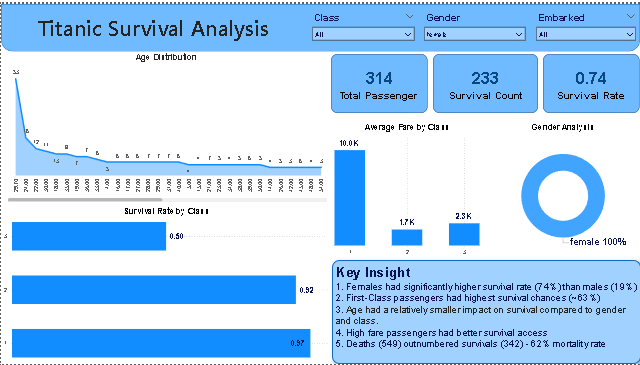

This screenshot's page, from the dashboard's own definition file:
{"tool":"powerbi","page":{"name":"Dashboard","canvas":[1280,720],"ordinal":0},"visuals":[{"type":"shape","box":[0,0,1278.3,95],"z":0},{"type":"card","fields":{"Values":["CountNonNull(Cleaned.PassengerId)"]},"box":[660,100,193.3,118.3],"z":0,"group":"g1"},{"type":"card","fields":{"Values":["Sum(Cleaned.Survived)"]},"box":[864.2,100,210,118.3],"z":1000,"group":"g1"},{"type":"donutChart","title":"Gender Analysis","fields":{"Category":["Cleaned.Sex"],"Y":["Sum(Cleaned.Survived)"]},"box":[970,231.7,308.3,280],"z":1000},{"type":"card","fields":{"Values":["Cleaned.Survival Rate"]},"box":[1083.3,100,193.3,118.3],"z":2000,"group":"g1"},{"type":"barChart","title":"Survival Rate by Class","fields":{"Category":["Cleaned.Pclass"],"Y":["Avg(Cleaned.Survived)"]},"box":[0,400,661.7,320],"z":2000},{"type":"areaChart","title":"Age Distribution","fields":{"Category":["Cleaned.Age"],"Y":["Sum(Cleaned.Survived)"]},"box":[0,95,661.7,305],"z":3000},{"type":"clusteredColumnChart","title":"Average Fare by Class","fields":{"Category":["Cleaned.Pclass"],"Y":["Sum(Cleaned.Fare)"]},"box":[651.7,231.7,320,280],"z":4000},{"type":"slicer","fields":{"Values":["Cleaned.Sex"]},"box":[836.7,0,223.3,95],"z":5000},{"type":"slicer","fields":{"Values":["Cleaned.Pclass"]},"box":[611.7,0,225,95],"z":6000},{"type":"slicer","fields":{"Values":["Cleaned.Embarked"]},"box":[1060,0,220,95],"z":7000},{"type":"textbox","box":[0,0,611.7,95],"z":8000},{"type":"textbox","box":[661.7,512.4,618.4,207.6],"z":9000},{"type":"group","id":"g1","title":"Group 1","box":[660,100,616.7,118.3],"z":10000}]}

Visuals, with their boxes in screenshot pixels (x1, y1, x2, y2), scaled from the page's 1280x720 canvas onto the 640x365 screenshot:
shape: (x1=0, y1=0, x2=639, y2=48)
card - CountNonNull(Cleaned.PassengerId): (x1=330, y1=51, x2=427, y2=111)
card - Sum(Cleaned.Survived): (x1=432, y1=51, x2=537, y2=111)
"Gender Analysis" donutChart: (x1=485, y1=117, x2=639, y2=259)
card - Cleaned.Survival Rate: (x1=542, y1=51, x2=638, y2=111)
"Survival Rate by Class" barChart: (x1=0, y1=203, x2=331, y2=364)
"Age Distribution" areaChart: (x1=0, y1=48, x2=331, y2=203)
"Average Fare by Class" clusteredColumnChart: (x1=326, y1=117, x2=486, y2=259)
slicer - Cleaned.Sex: (x1=418, y1=0, x2=530, y2=48)
slicer - Cleaned.Pclass: (x1=306, y1=0, x2=418, y2=48)
slicer - Cleaned.Embarked: (x1=530, y1=0, x2=639, y2=48)
textbox: (x1=0, y1=0, x2=306, y2=48)
textbox: (x1=331, y1=260, x2=639, y2=364)
"Group 1" group: (x1=330, y1=51, x2=638, y2=111)
